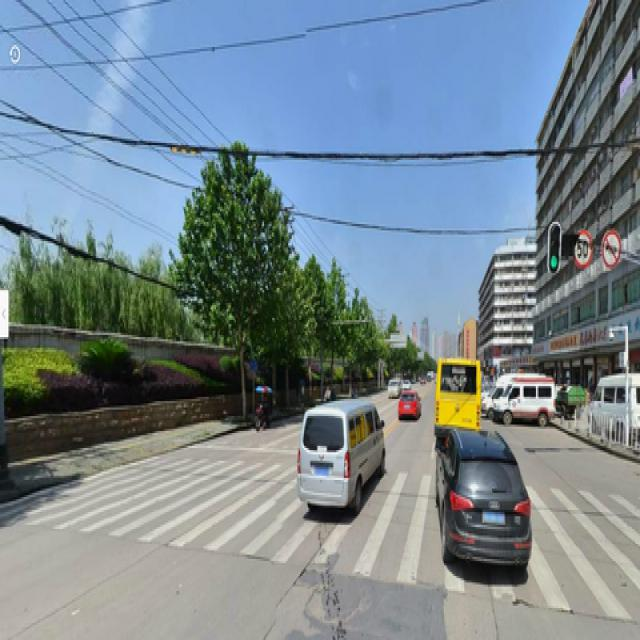meta: (196, 156, 269, 422)
